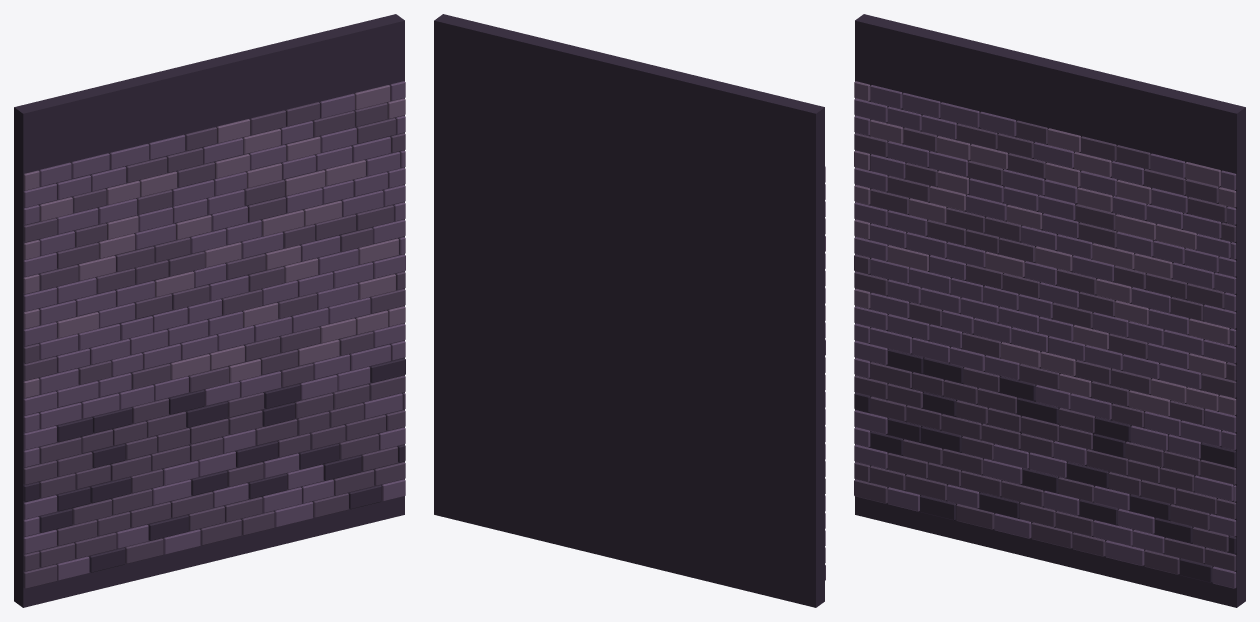
File: SM_Vault_CenterWall.fbx
3 views of the same model, side by side, from view 1: azimuth 30°, elevation 25°; view 2: azimuth 150°, elevation 25°; view 3: azimuth 330°, elevation 25° (orthographic).
Visible parts, largest first — view 1: SM_Vault_CenterWall; view 2: SM_Vault_CenterWall; view 3: SM_Vault_CenterWall.
Boxes of the visible parts, x1,y1,x2,y2 form: SM_Vault_CenterWall: (14, 14, 405, 607); SM_Vault_CenterWall: (434, 14, 825, 607); SM_Vault_CenterWall: (854, 14, 1245, 607).
Size of the model in its own units: 1270 by 60.99 by 1570.
